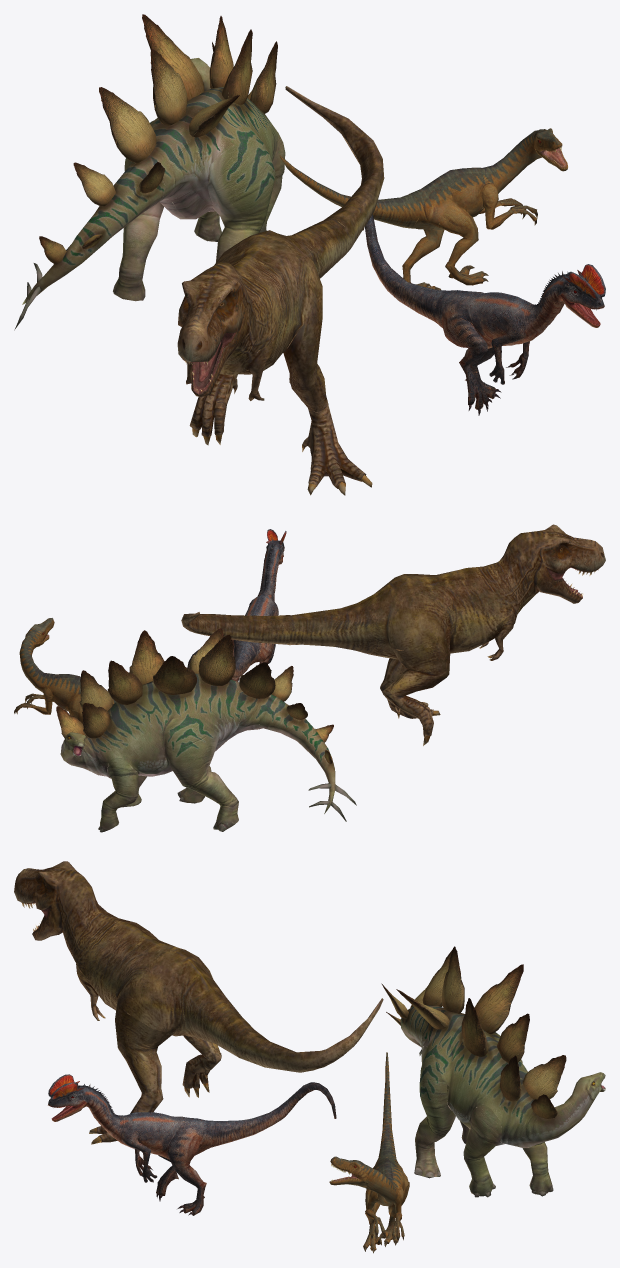
File: dinos_mod.glb
3 renders of one model, top to bottom at view 1: azimuth 30°, elevation 25°; view 2: azimuth 150°, elevation 25°; view 3: azimuth 270°, elevation 25°, orthographic. The views are drawn at different scales.
Parts seen in each view (by area): view 1: node_id48, node_id30, node_id36, node_id42; view 2: node_id48, node_id30, node_id42, node_id36; view 3: node_id30, node_id48, node_id36, node_id42.
Boxes of the visible parts, x1,y1,x2,y2 form: node_id48: (14,14,285,330); node_id30: (177,86,384,495); node_id36: (362,214,605,415); node_id42: (280,128,567,290); node_id48: (56,628,356,832); node_id30: (181,524,605,745); node_id42: (14,618,116,741); node_id36: (187,529,286,681); node_id30: (14,861,383,1144); node_id48: (381,946,605,1197); node_id36: (48,1074,336,1215); node_id42: (329,1052,409,1253).
Bounding box in the file's own units: 2.34 × 1.05 × 2.62.
4 materials, 4 textured.
